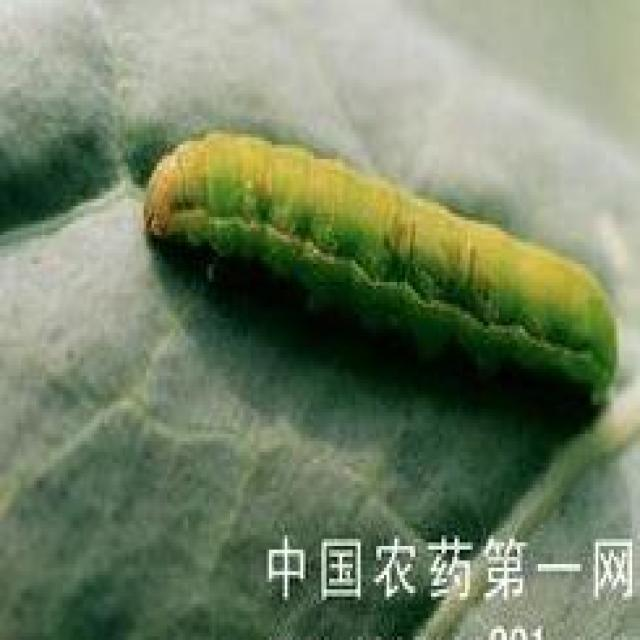BeetArmyWorm-Larva-: (148, 119, 626, 407)
